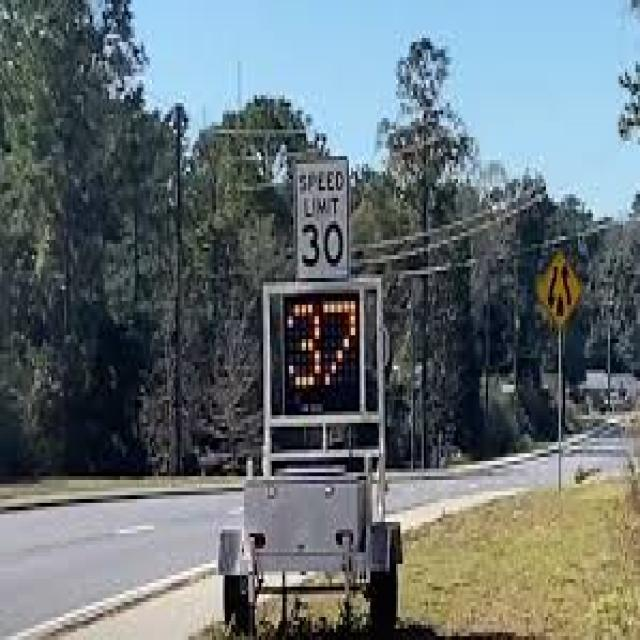speedLimit30: (294, 154, 348, 284)
